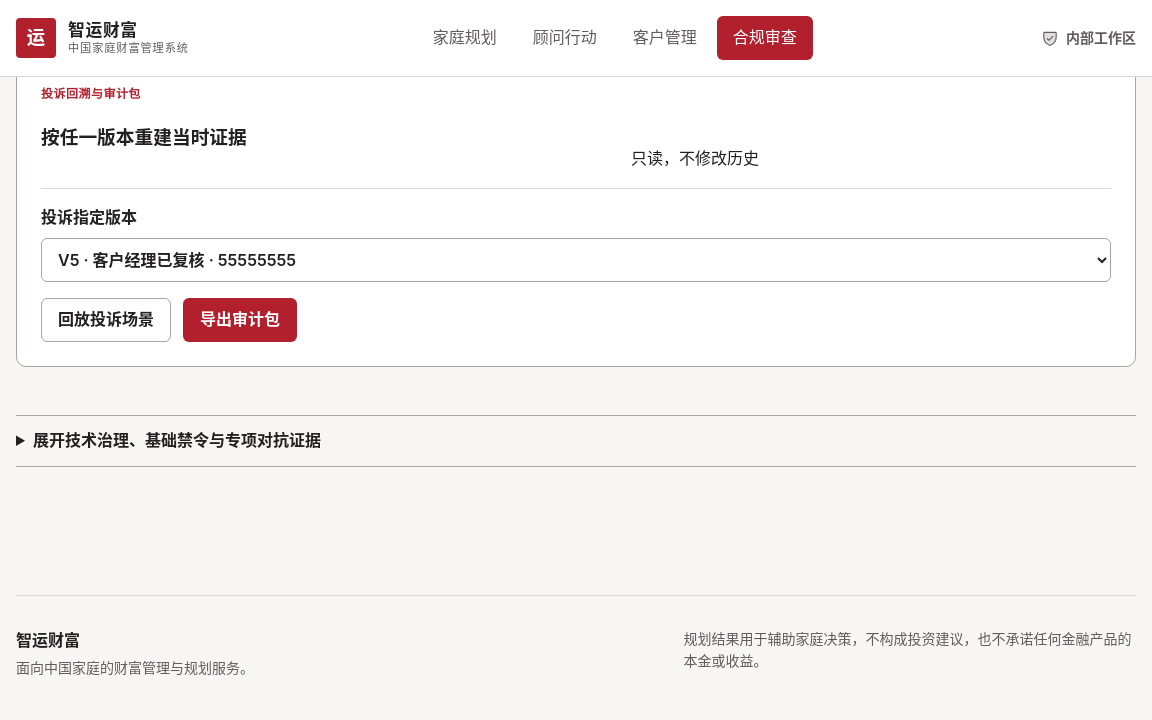
Scenario: Fortune Copilot routes › shows verified public data separately from blocked ICBC production ports
This screenshot has width=1152, height=720.
(page scrolled)
Click the heading "展开技术治理、基础禁令与专项对抗证据" at (177, 440), box [33,430,321,450]
(page scrolled)
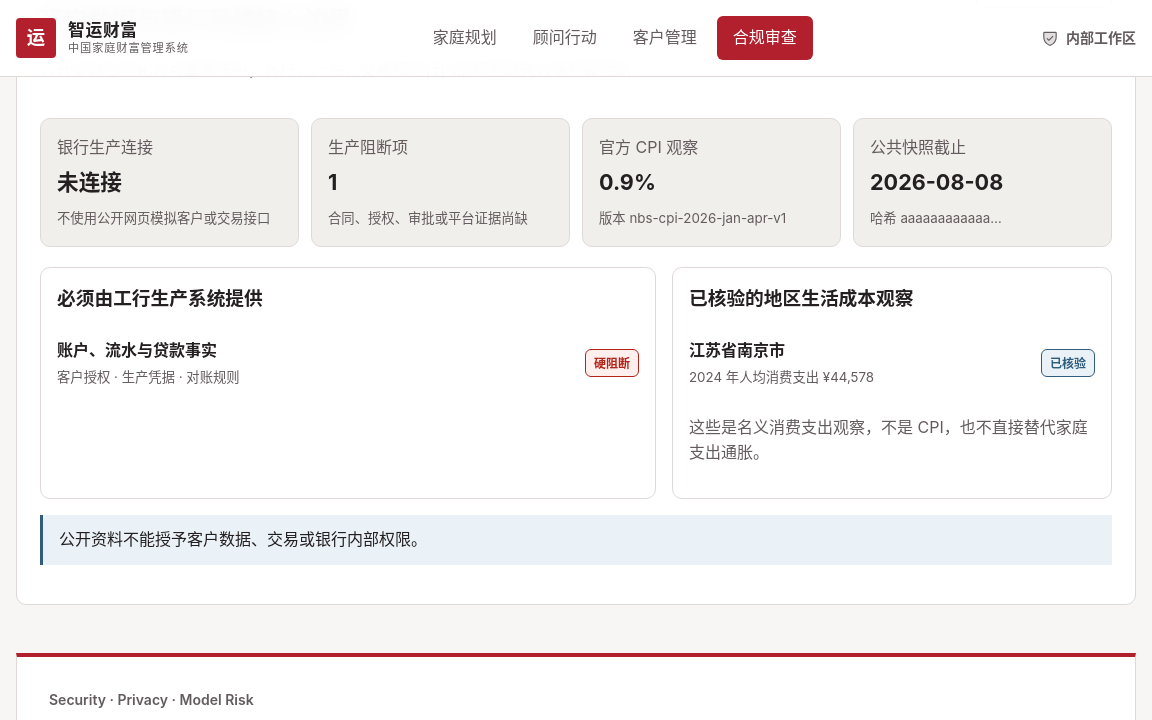
Result: the text "未连接" is shown at [57,170,122,196]
Result: the text "账户、流水与贷款事实" is shown at [57,338,240,364]
Result: the text "2024 年人均消费支出 ¥44,578" is shown at [689,367,874,388]
